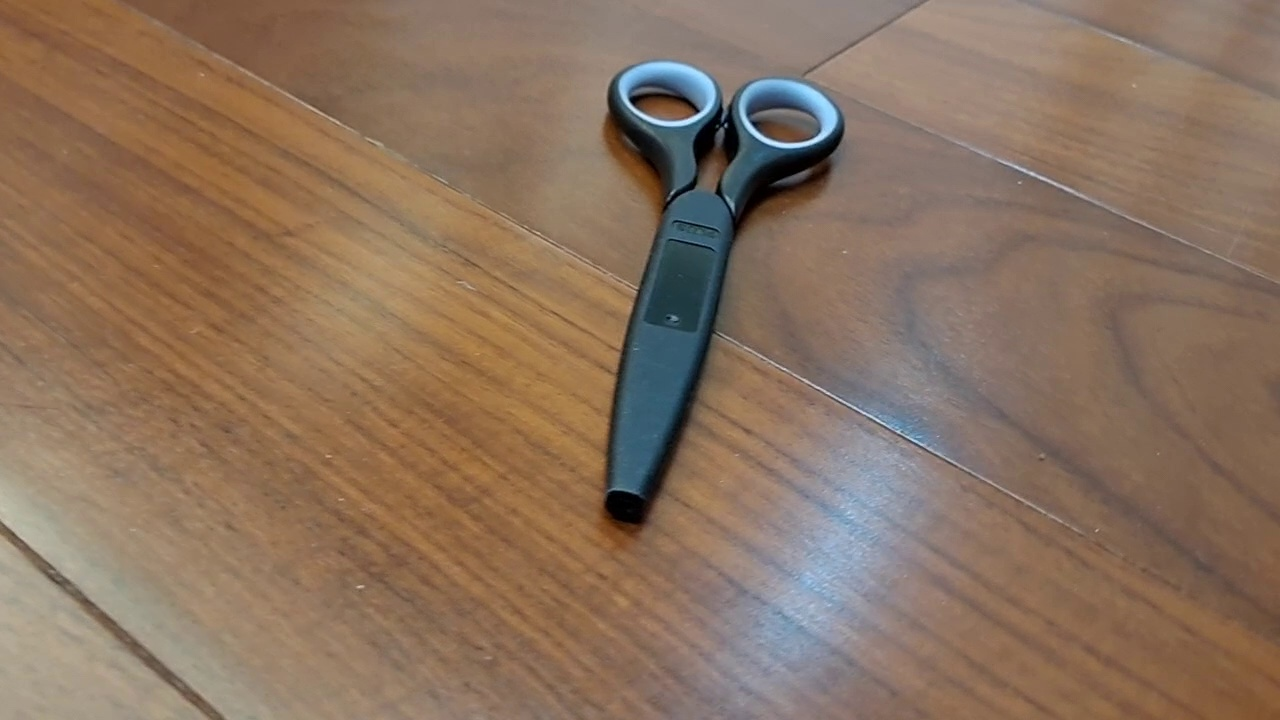scissors: (603, 58, 845, 525)
